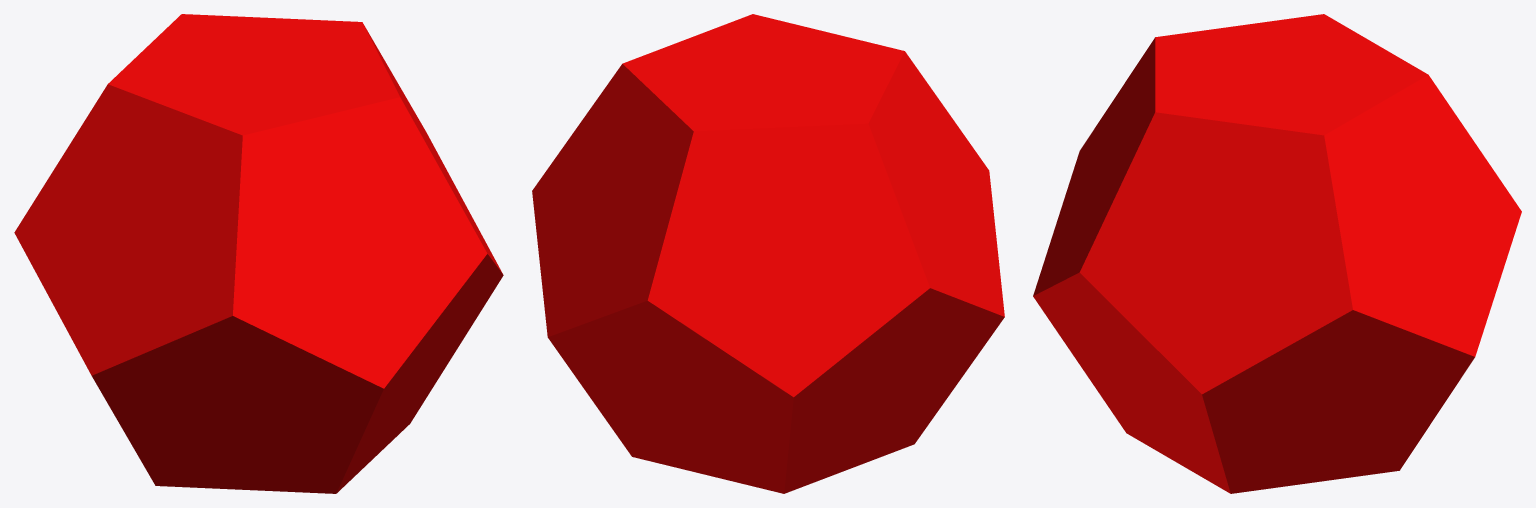
File: gem.fbx
3 renders of one model, left to right at view 1: azimuth 30°, elevation 25°; view 2: azimuth 150°, elevation 25°; view 3: azimuth 270°, elevation 25°, orthographic. The views are drawn at different scales.
Parts seen in each view (by area): view 1: gem; view 2: gem; view 3: gem.
Boxes of the visible parts, x1=… form: gem: x1=14, y1=14, x2=503, y2=493; gem: x1=532, y1=14, x2=1004, y2=493; gem: x1=1033, y1=14, x2=1521, y2=493.
Size of the model in its own units: 1.87 by 1.59 by 1.96.
